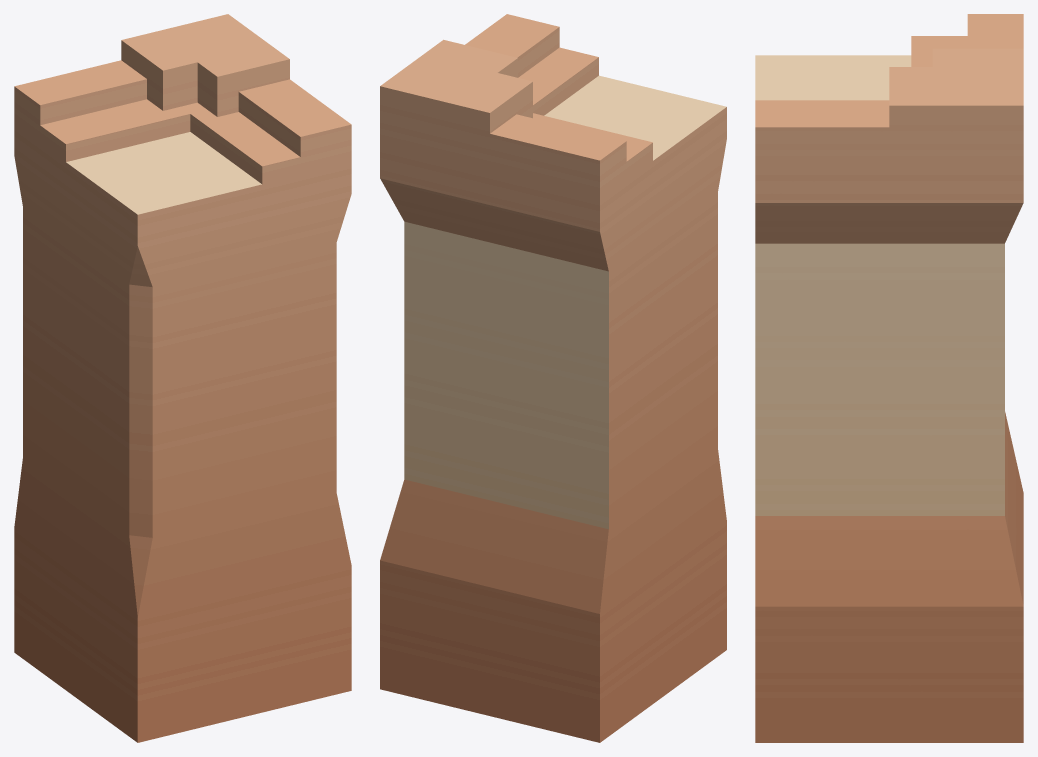
The model's file is wall-narrow-corner.glb.
The picture shows the model from 3 angles, left to right: view 1: azimuth 30°, elevation 25°; view 2: azimuth 150°, elevation 25°; view 3: azimuth 270°, elevation 25°; orthographic projection. The views are drawn at different scales.
Visible parts, largest first — view 1: wall-narrow-corner; view 2: wall-narrow-corner; view 3: wall-narrow-corner.
Boxes of the visible parts, bbox=[...] form: wall-narrow-corner: bbox=[14, 14, 351, 742]; wall-narrow-corner: bbox=[380, 14, 726, 742]; wall-narrow-corner: bbox=[755, 14, 1023, 742].
Bounding box in the file's own units: 0.4999 × 1.31 × 0.4999.
Materials: 1 (1 with a texture image).
